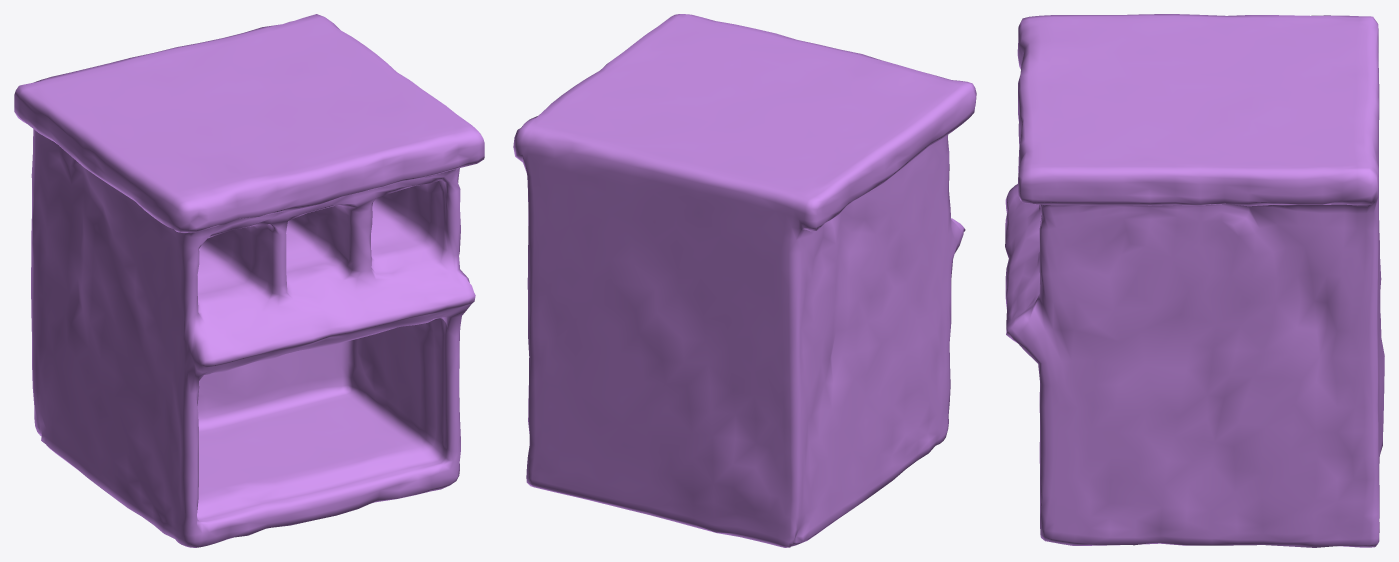
3 renders of one model, left to right at view 1: azimuth 30°, elevation 25°; view 2: azimuth 150°, elevation 25°; view 3: azimuth 270°, elevation 25°, orthographic. The views are drawn at different scales.
Parts seen in each view (by area): view 1: PM3D_Cube; view 2: PM3D_Cube; view 3: PM3D_Cube.
Part boxes in pixels (bbox=[...]): PM3D_Cube: bbox=[14, 14, 484, 547]; PM3D_Cube: bbox=[513, 14, 976, 547]; PM3D_Cube: bbox=[1005, 14, 1384, 547].
Bounding box in the file's own units: 271 × 302 × 269.
